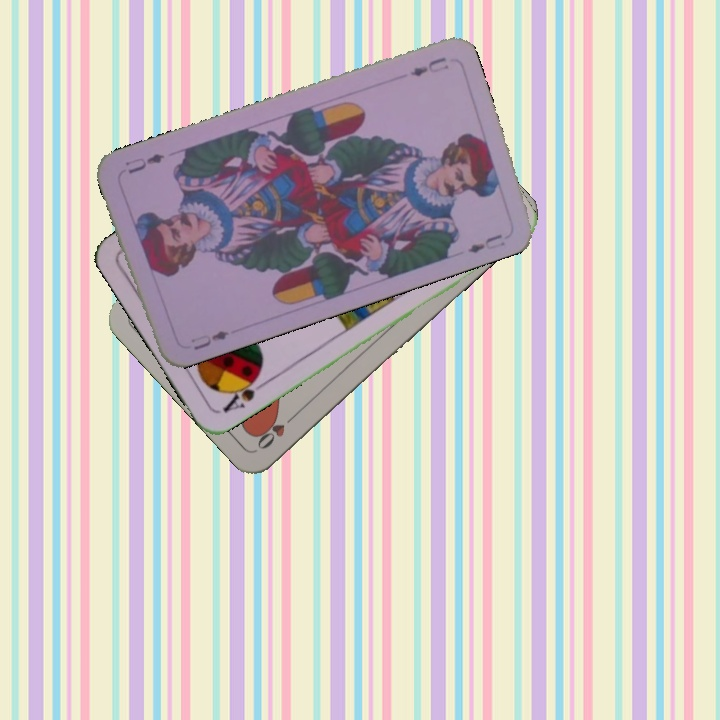EU: (406, 52, 452, 80), (187, 326, 232, 353)
HO: (253, 408, 301, 452)
SA: (218, 369, 270, 415)
